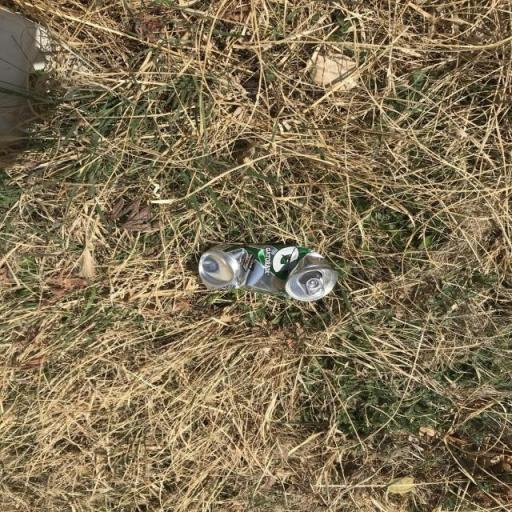metal: (190, 222, 376, 336)
